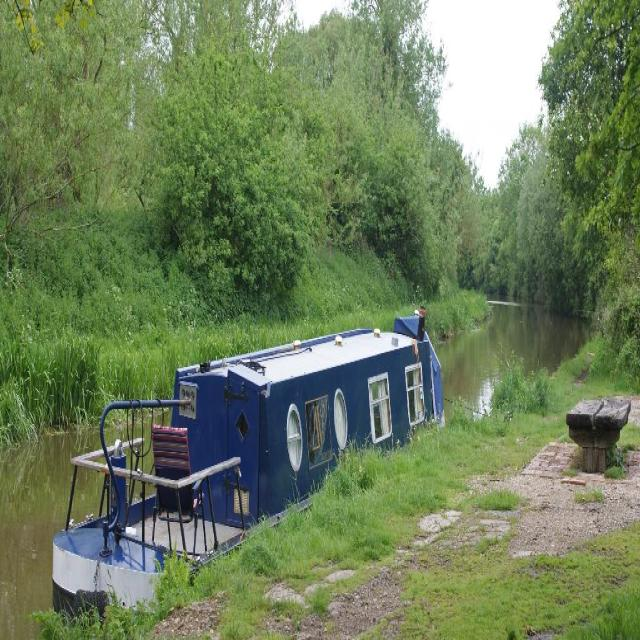Boat: (52, 298, 447, 630)
